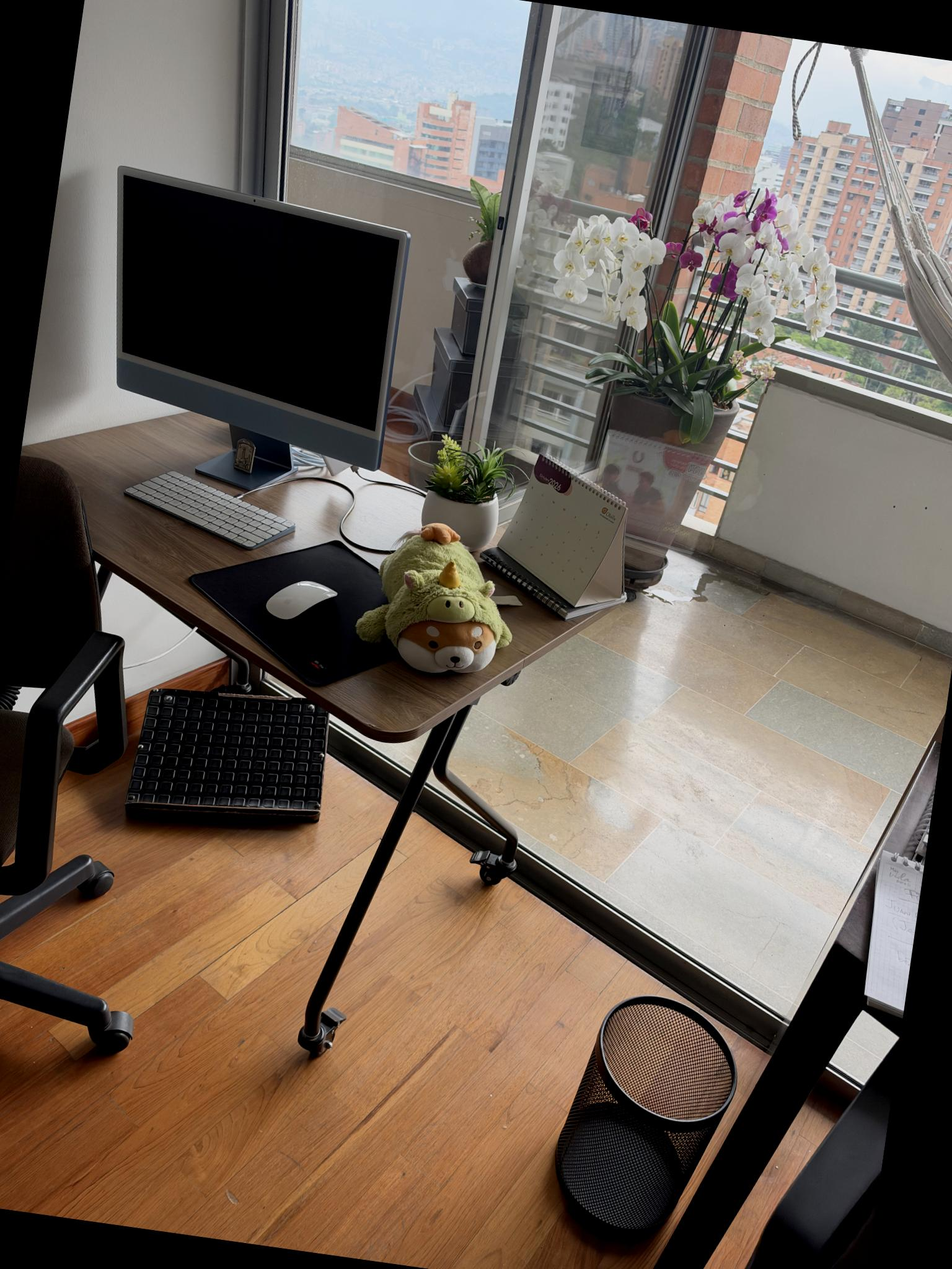peluche_martin: (348, 512, 527, 685)
